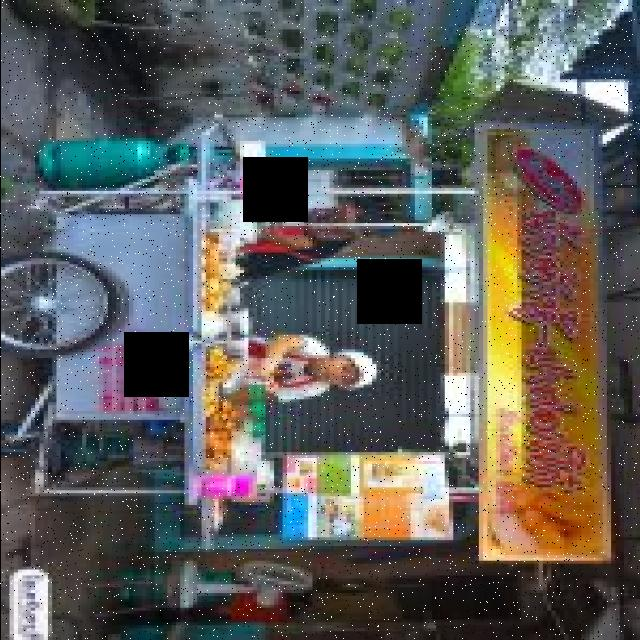food-booth: (0, 117, 610, 564)
